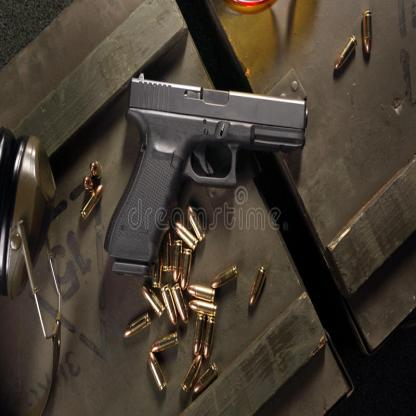handgun: (104, 72, 313, 302)
